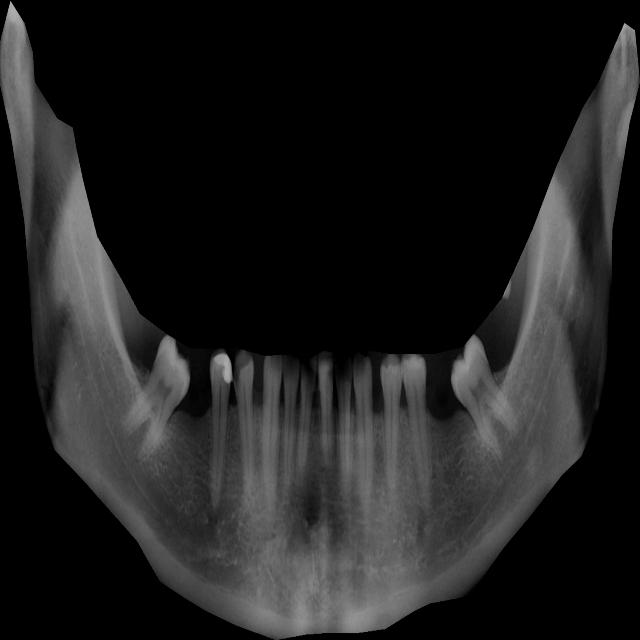mandibula: (0, 1, 640, 640)
